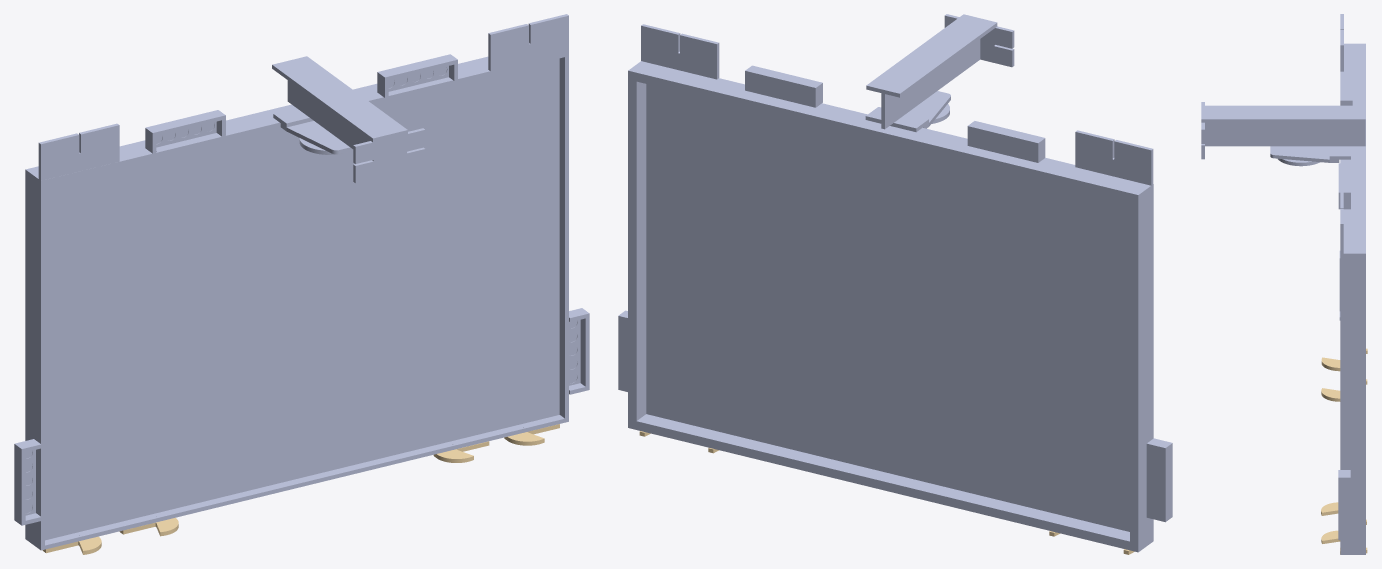
The model's file is AssemblyTable.dae.
The picture shows the model from 3 angles, left to right: view 1: azimuth 30°, elevation 25°; view 2: azimuth 150°, elevation 25°; view 3: azimuth 270°, elevation 25°; orthographic projection. The views are drawn at different scales.
Parts seen in each view (by area): view 1: Body_1 (×9); view 2: Body_1 (×9); view 3: Body_1 (×10).
Part boxes in pixels (x1=…): Body_1 (×9): x1=14, y1=14, x2=589, y2=550; Body_1 (×9): x1=618, y1=14, x2=1172, y2=552; Body_1 (×10): x1=1201, y1=14, x2=1367, y2=554.
Bounding box in the file's own units: 3.25 × 1.01 × 2.29.
